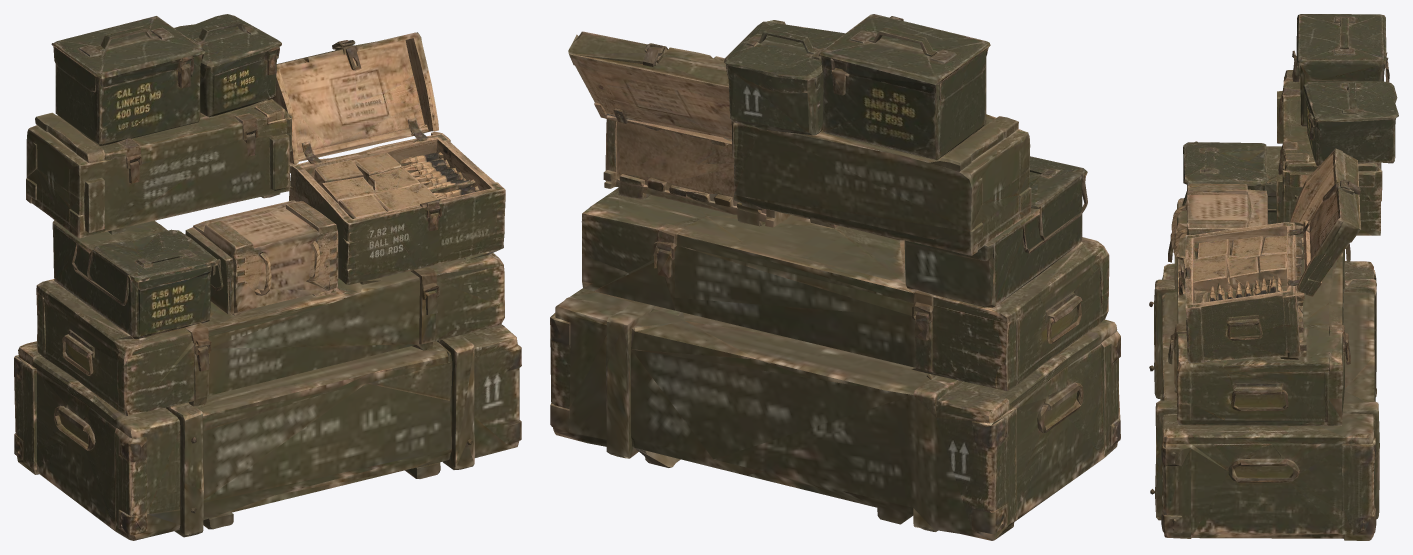
File: crates.glb
3 renders of one model, left to right at view 1: azimuth 30°, elevation 25°; view 2: azimuth 150°, elevation 25°; view 3: azimuth 270°, elevation 25°, orthographic. The views are drawn at different scales.
Visible parts, largest first — view 1: Mesh_0; view 2: Mesh_0; view 3: Mesh_0.
Boxes of the visible parts, box(x1,y1,x2,y2) form: Mesh_0: box(14, 14, 521, 540); Mesh_0: box(550, 14, 1120, 540); Mesh_0: box(1149, 14, 1398, 540).
Bounding box in the file's own units: 1.89 × 1.9 × 1.11.
Materials: 1 (1 with a texture image).
